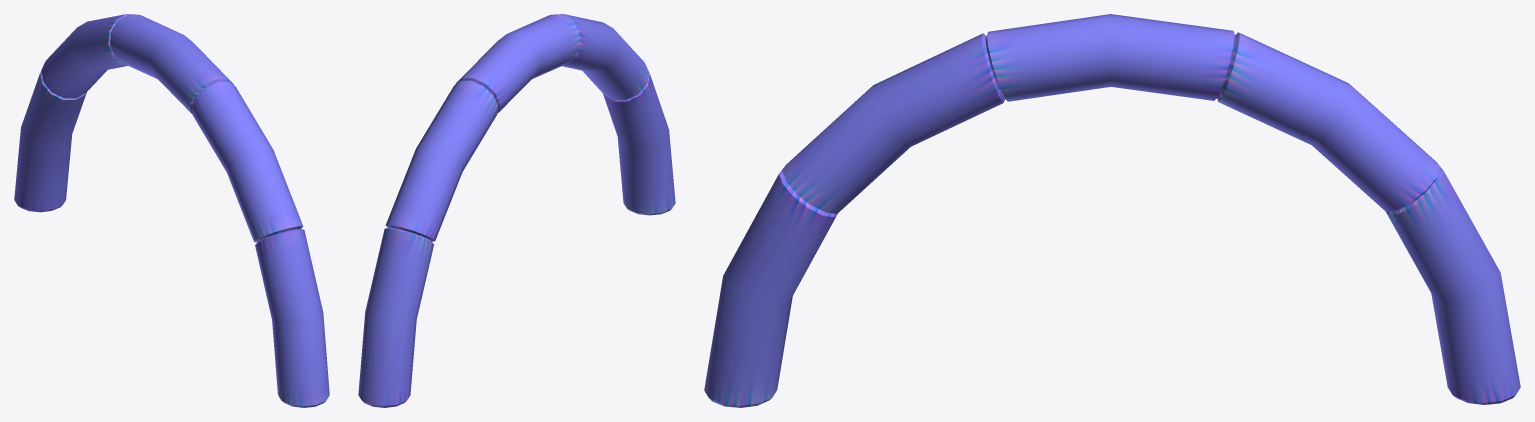
File: gate.FBX
The picture shows the model from 3 angles, left to right: view 1: azimuth 30°, elevation 25°; view 2: azimuth 150°, elevation 25°; view 3: azimuth 270°, elevation 25°; orthographic projection. The views are drawn at different scales.
Parts seen in each view (by area): view 1: Cylinder001; view 2: Cylinder001; view 3: Cylinder001.
Boxes of the visible parts, x1,y1,x2,y2 form: Cylinder001: (14, 14, 329, 407); Cylinder001: (358, 14, 675, 407); Cylinder001: (704, 14, 1520, 407).
Size of the model in its own units: 19.86 by 113 by 222.
